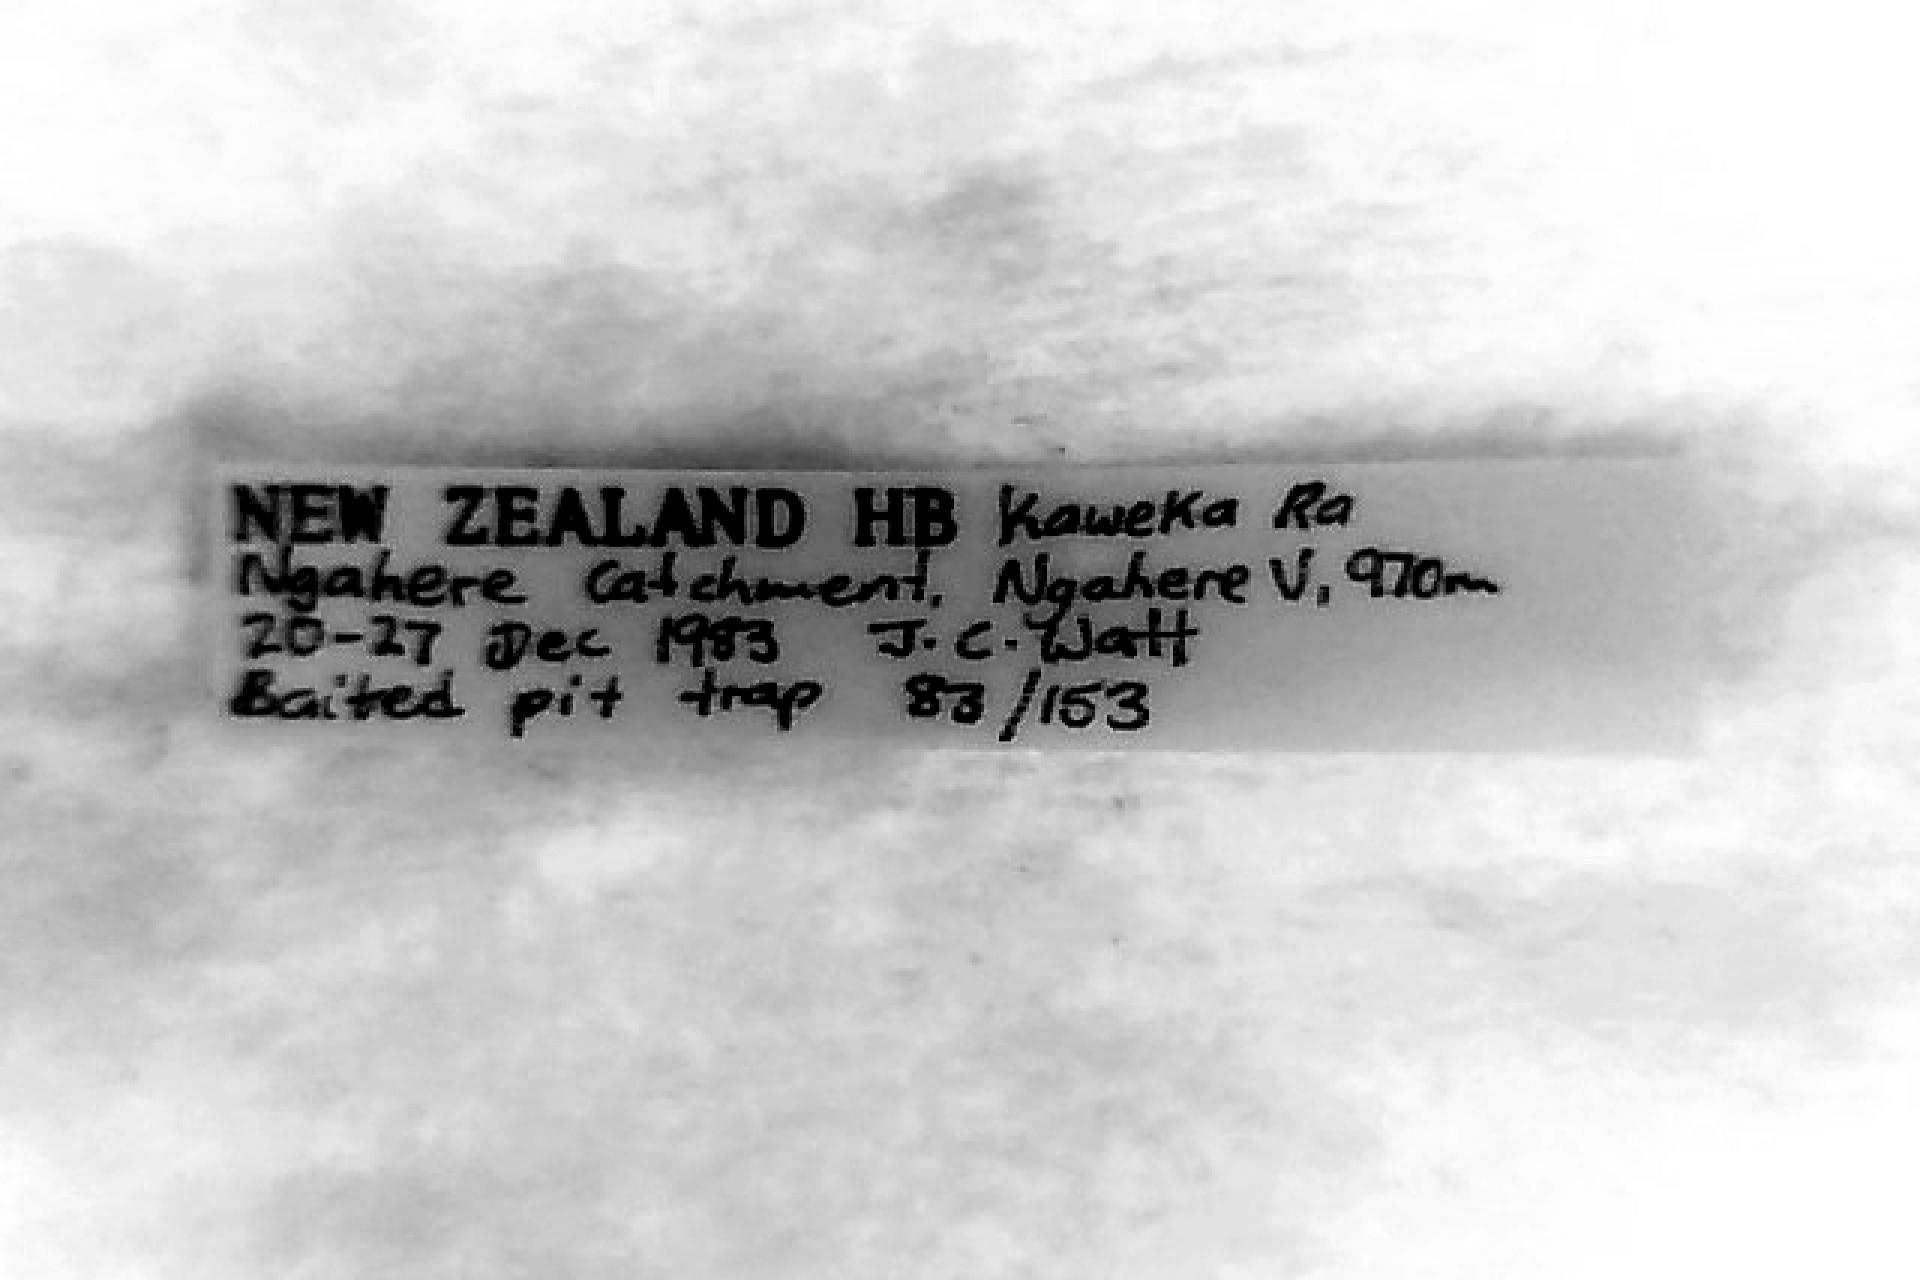mixed_label: (214, 460, 1699, 747)
